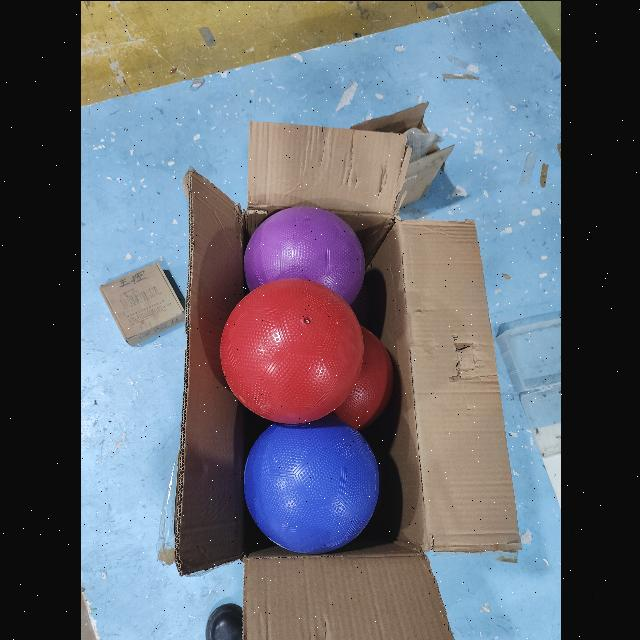B: (240, 417, 384, 553)
P: (244, 202, 366, 322)
R: (218, 278, 362, 426), (282, 318, 391, 434)
